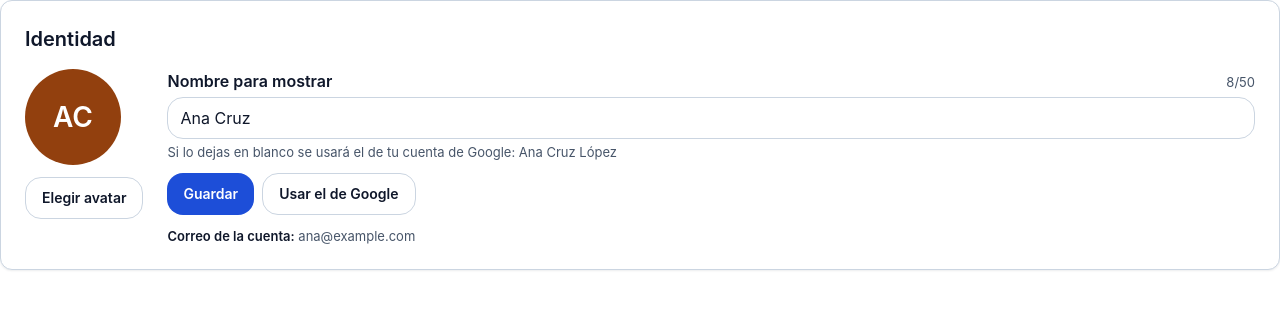
Test: <IdentitySection> › rechaza un nombre vacío con un mensaje claro y no guarda nada
Clear the field labelled "Nombre para mostrar" at [711, 118], box [168,97,1255,139]
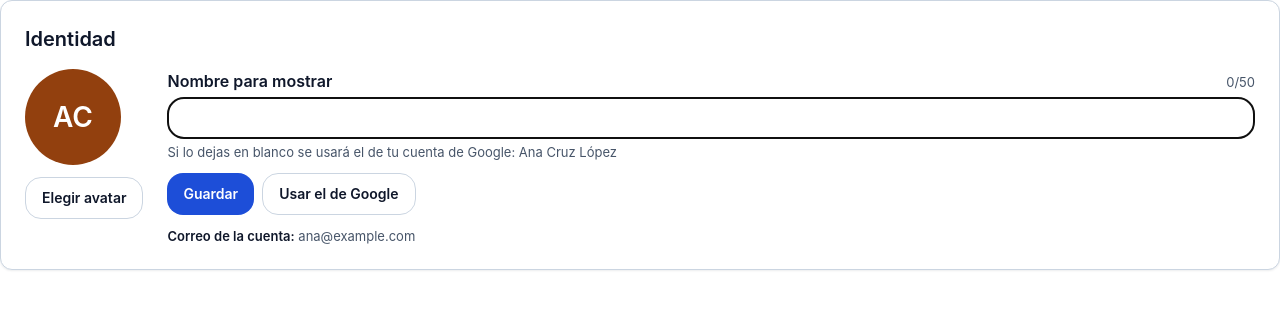
Click the button "Guardar".
click(211, 194)  # box [168,173,254,215]
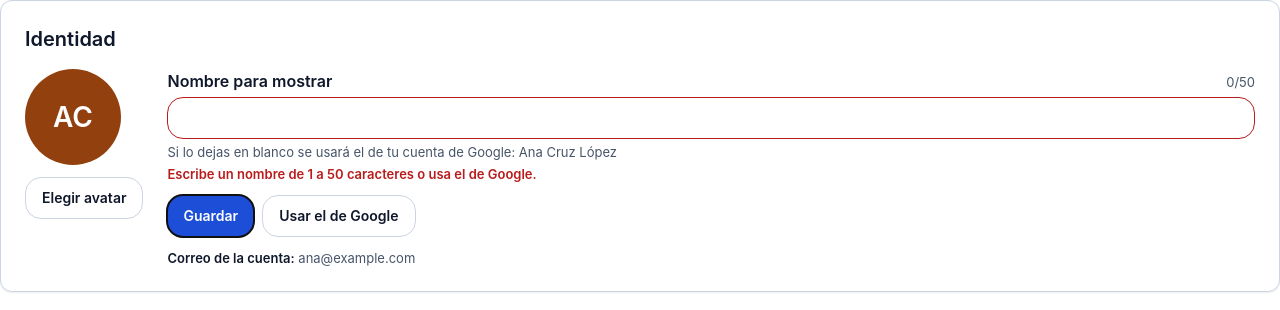
Expected: the message reads "Escribe un nombre de 1 a 50 caracteres o usa el de Google.", [168,166,537,182]
